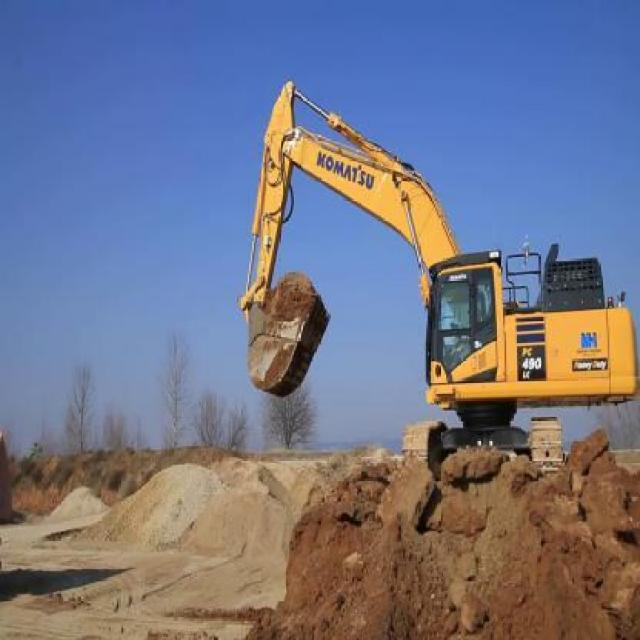Excavator: (238, 78, 639, 477)
